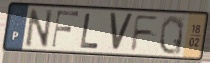F: (129, 14, 161, 53), (50, 10, 81, 50)
L: (79, 12, 101, 50)
N: (24, 7, 54, 49)
Q: (158, 14, 186, 57)
V: (108, 11, 135, 53)
